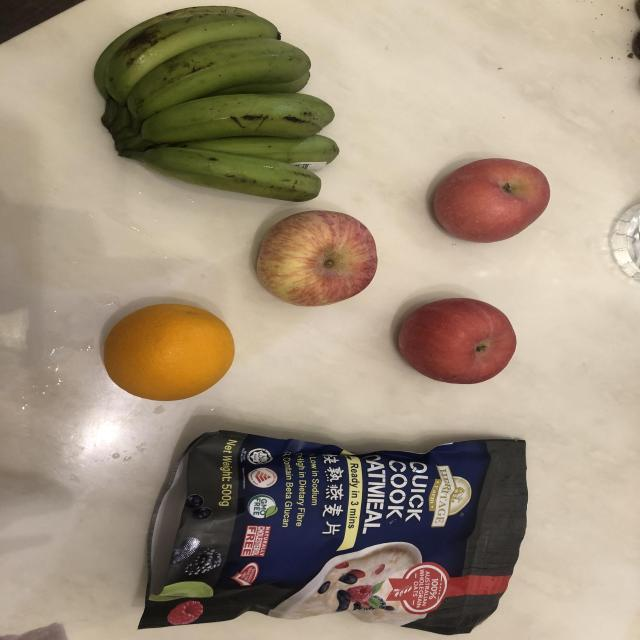Apple: (241, 201, 399, 313), (378, 286, 529, 398), (415, 152, 553, 254)
Banana: (82, 0, 359, 212)
Orange: (98, 297, 242, 413)
